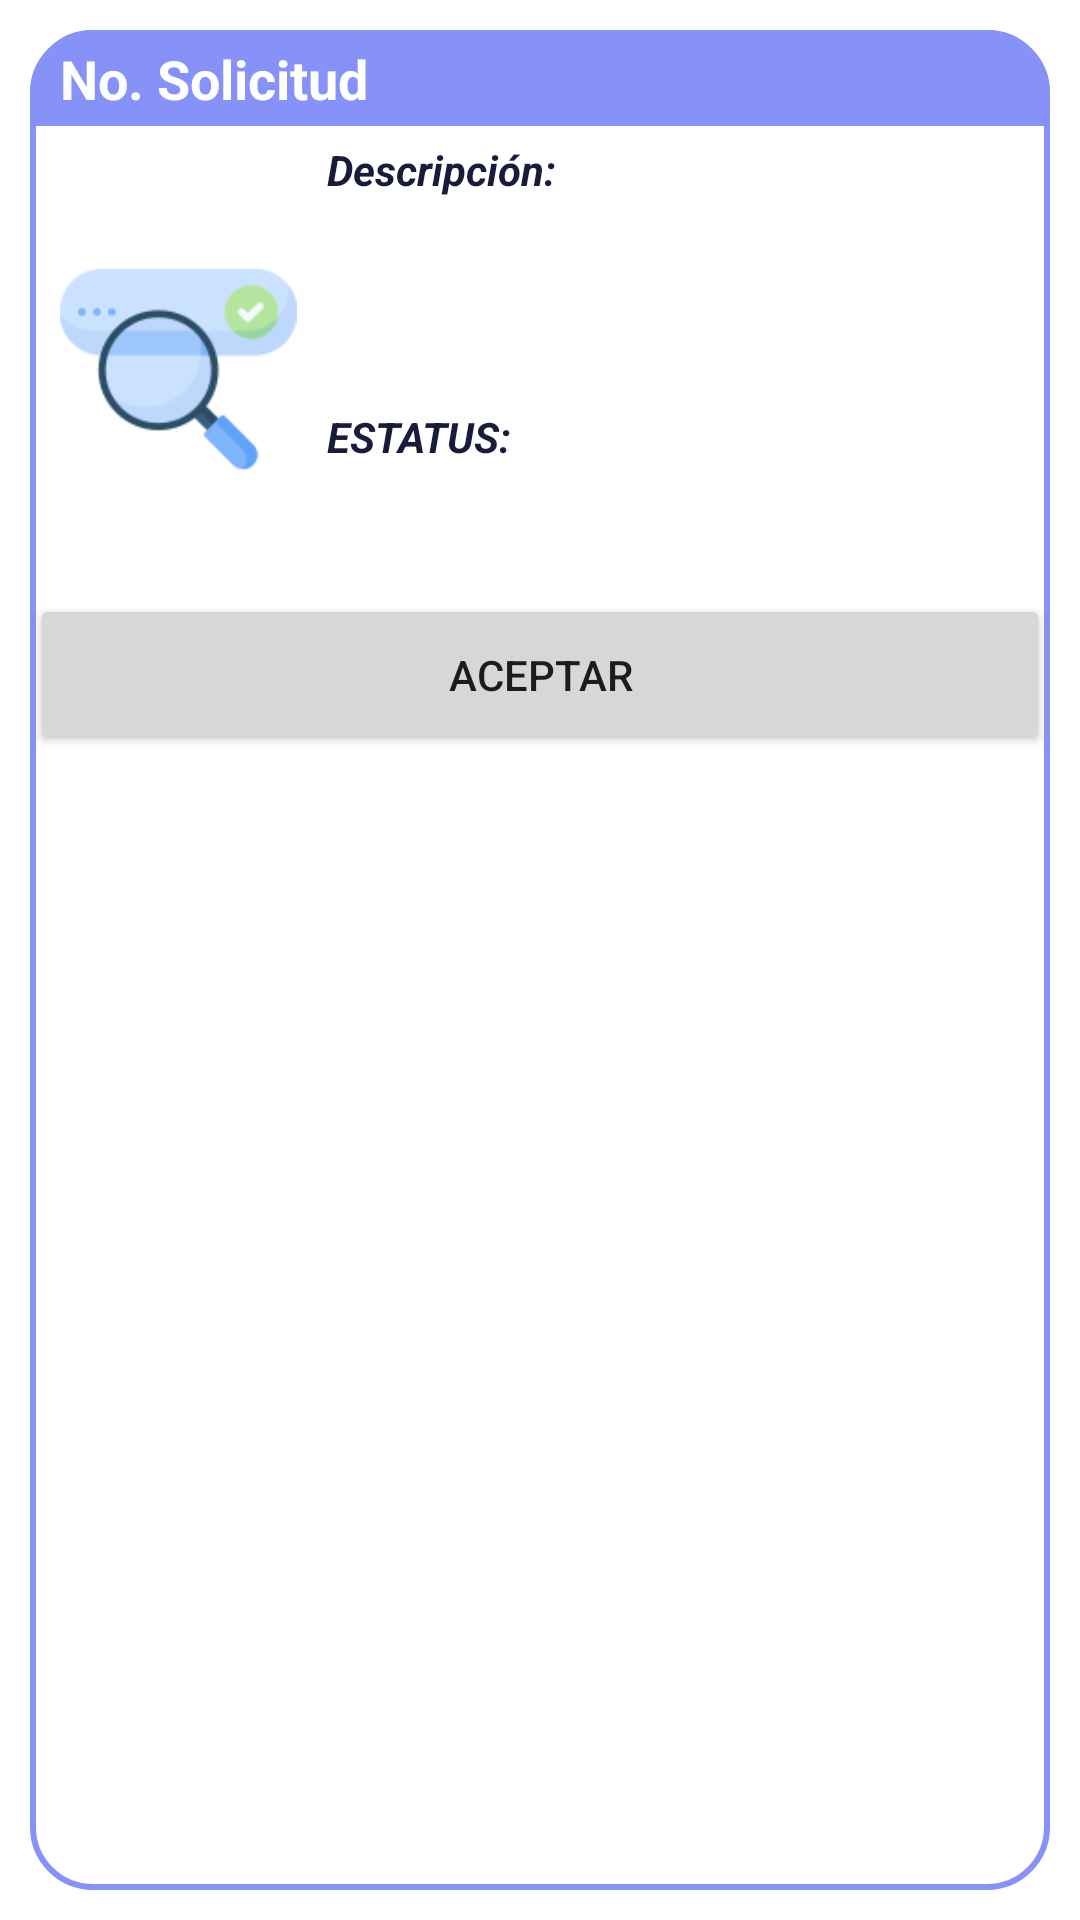

Icons on this 1080px x 1920px Android screen, each with the point to tap as [x,y]:
busqueda: [178,369]
